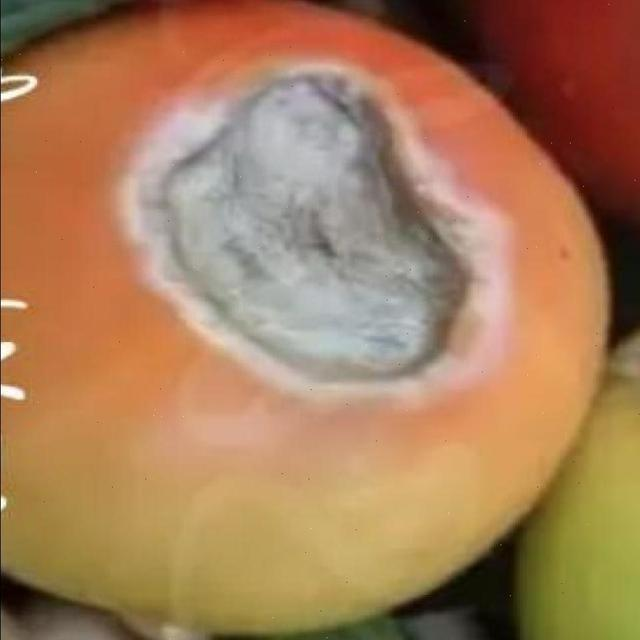Blossom End Rot Fruit: (67, 37, 333, 275)
